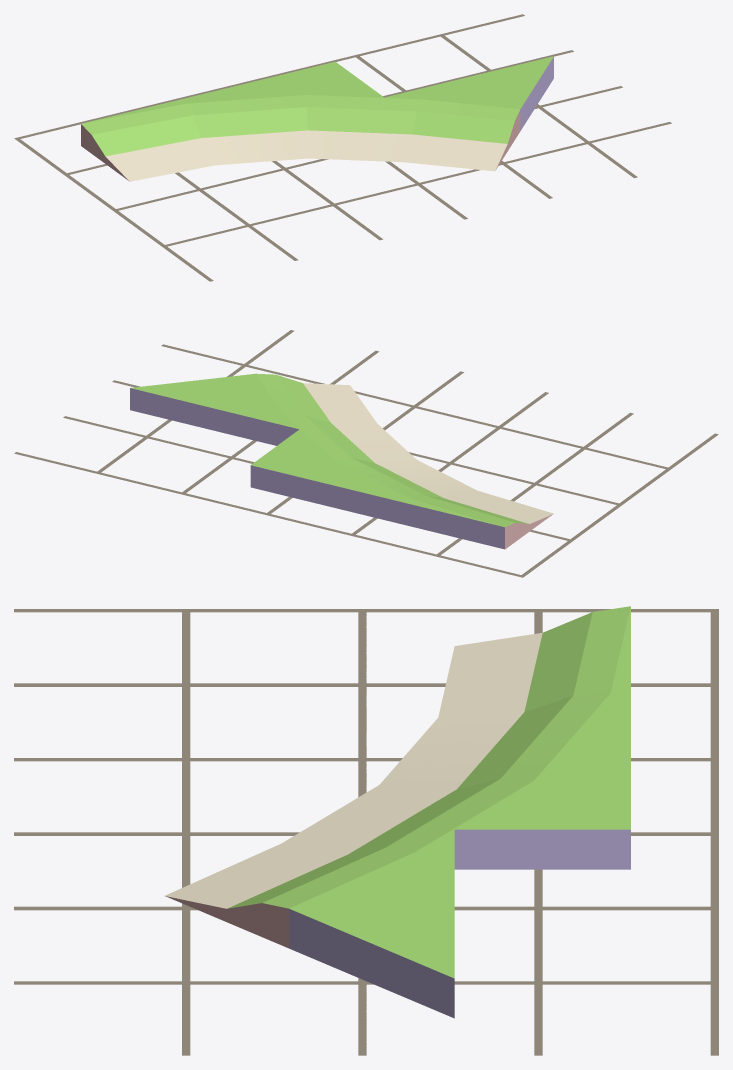
The model's file is Path_Terrain_45_Degrees_Curve_Outer_3x5.glb.
3 renders of one model, top to bottom at view 1: azimuth 30°, elevation 25°; view 2: azimuth 150°, elevation 25°; view 3: azimuth 270°, elevation 25°, orthographic. The views are drawn at different scales.
Visible parts, largest first — view 1: Path_Terrain_45_Degrees_Curve_Outer_3x5, Floor; view 2: Path_Terrain_45_Degrees_Curve_Outer_3x5, Floor; view 3: Path_Terrain_45_Degrees_Curve_Outer_3x5, Floor.
Boxes of the visible parts, left/top/right/bottom form: Path_Terrain_45_Degrees_Curve_Outer_3x5: left=81, top=56, right=553, bottom=181; Floor: left=14, top=14, right=671, bottom=281; Path_Terrain_45_Degrees_Curve_Outer_3x5: left=130, top=373, right=553, bottom=549; Floor: left=14, top=330, right=718, bottom=577; Path_Terrain_45_Degrees_Curve_Outer_3x5: left=165, top=606, right=630, bottom=1018; Floor: left=14, top=609, right=718, bottom=1055.
Size of the model in its own units: 600 by 25 by 400.
6 materials, 1 textured.
